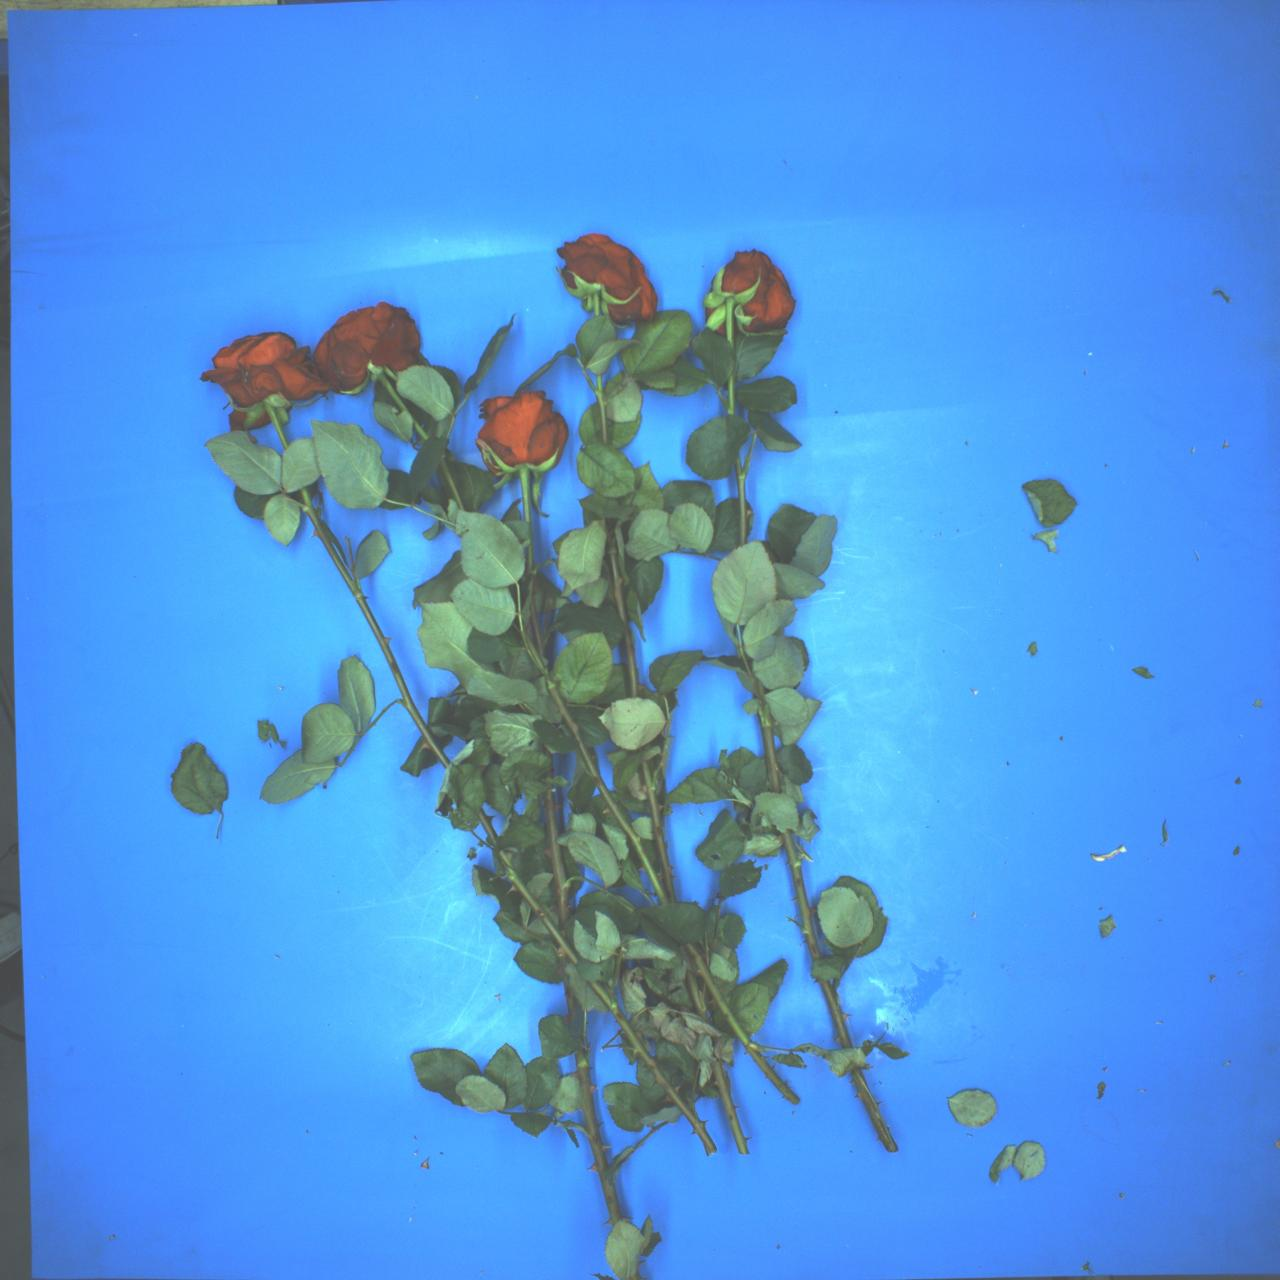Stem: (294, 488, 452, 772), (544, 687, 674, 907), (586, 975, 720, 1156), (678, 941, 803, 1111), (495, 850, 583, 967), (570, 1049, 625, 1227), (604, 538, 641, 697), (781, 829, 822, 961), (640, 760, 678, 904), (849, 1067, 900, 1156), (543, 789, 573, 927), (710, 1061, 749, 1157), (377, 374, 429, 442), (818, 976, 853, 1051), (758, 712, 782, 794), (437, 459, 467, 512), (685, 969, 709, 1022), (265, 402, 291, 450), (734, 458, 748, 545), (522, 631, 547, 674), (594, 375, 610, 443), (476, 809, 501, 844), (529, 602, 544, 656), (564, 980, 580, 1021), (724, 298, 736, 354), (519, 469, 531, 523), (727, 374, 735, 416), (525, 544, 532, 573), (593, 292, 600, 316)
flower: (543, 215, 676, 343), (300, 288, 431, 404), (197, 325, 329, 415), (709, 237, 808, 347), (475, 387, 571, 470), (484, 457, 501, 477), (702, 302, 714, 326), (717, 320, 726, 335)
